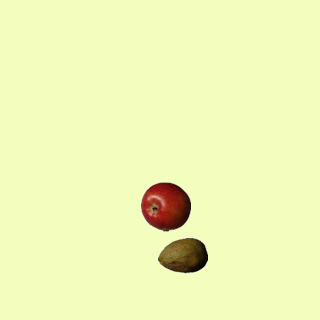Apple Braeburn: (140, 181, 190, 231)
Papaya: (157, 230, 207, 280)
